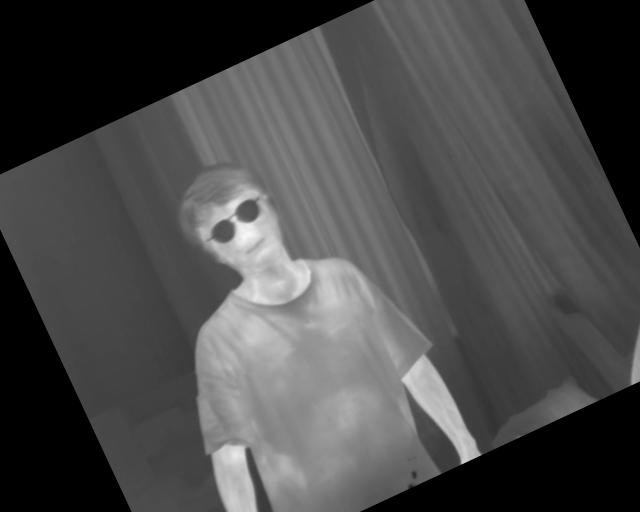face: (134, 186, 406, 484)
